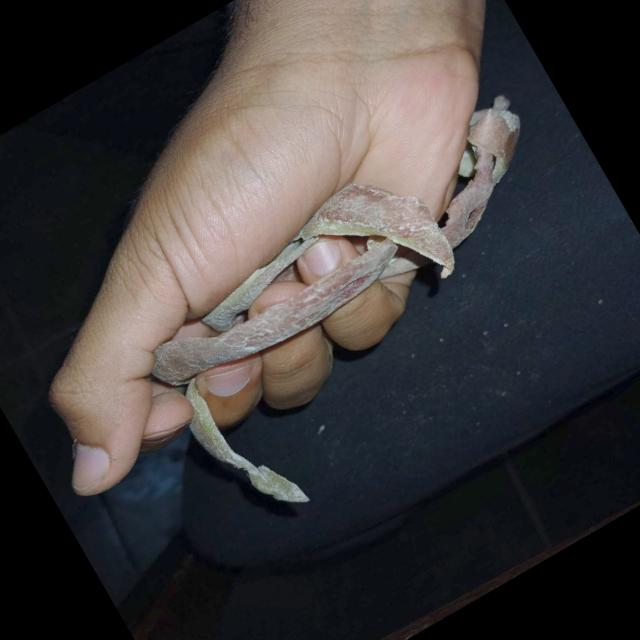organic: (119, 87, 636, 537)
